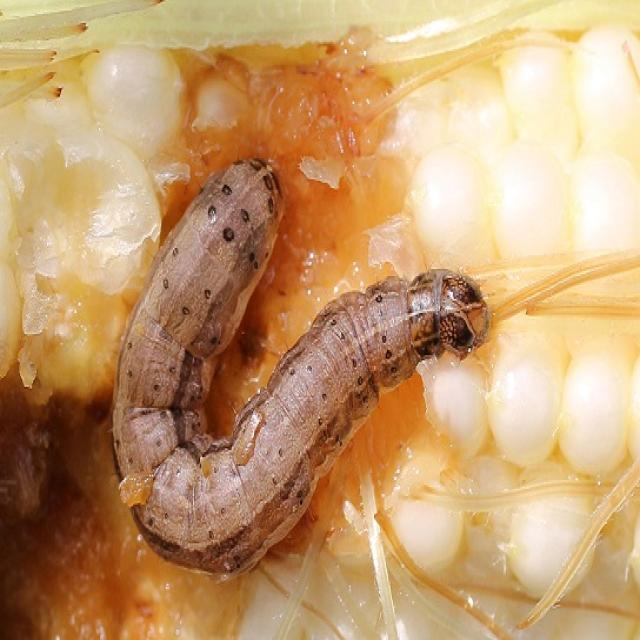Fall-armyworm: (108, 155, 497, 578)
